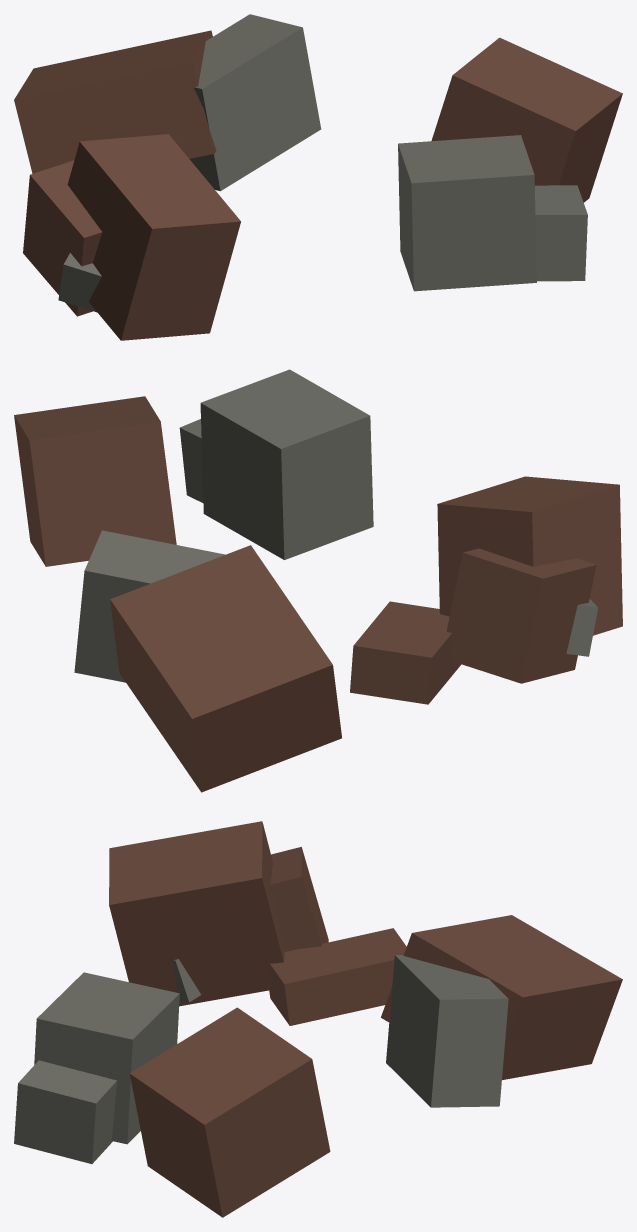
The model's file is rubble.glb.
3 views of the same model, one above another, from view 1: azimuth 30°, elevation 25°; view 2: azimuth 150°, elevation 25°; view 3: azimuth 270°, elevation 25° (orthographic). The views are drawn at different scales.
Parts seen in each view (by area): view 1: rubble; view 2: rubble; view 3: rubble.
Boxes of the visible parts, bbox=[...] form: rubble: bbox=[14, 14, 622, 340]; rubble: bbox=[14, 369, 622, 792]; rubble: bbox=[14, 821, 622, 1217].
Bounding box in the file's own units: 2.34 × 0.7085 × 2.25.
